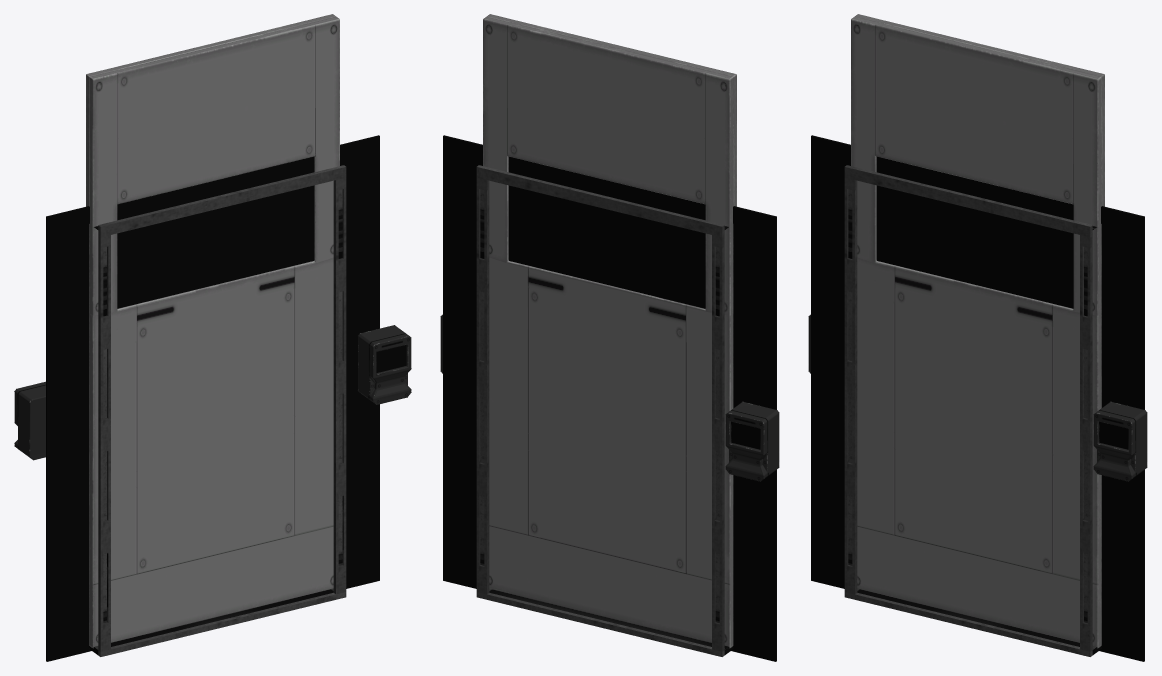
Rendered from EZ BreakableDoor.fbx.
3 renders of one model, left to right at view 1: azimuth 30°, elevation 25°; view 2: azimuth 150°, elevation 25°; view 3: azimuth 330°, elevation 25°, orthographic.
Parts seen in each view (by area): view 1: Front_Door, Frame, TouchScreenPanel (×2), Back_Door; view 2: Back_Door, Frame, TouchScreenPanel, Front_Door; view 3: Front_Door, Frame, TouchScreenPanel, Back_Door.
Part boxes in pixels (<box>): Front_Door: <box>89,16,339,648</box>; Frame: <box>46,135,379,661</box>; TouchScreenPanel (×2): <box>14,325,411,460</box>; Back_Door: <box>86,14,335,645</box>; Back_Door: <box>483,16,733,648</box>; Frame: <box>443,135,776,661</box>; TouchScreenPanel: <box>725,401,779,481</box>; Front_Door: <box>487,14,736,206</box>; Front_Door: <box>851,16,1101,648</box>; Frame: <box>811,135,1144,661</box>; TouchScreenPanel: <box>1093,401,1147,481</box>; Back_Door: <box>855,14,1104,645</box>.
Size of what is drawn, in the model's own units: 2.87 by 4.46 by 0.6311.
Materials: 5 (4 with a texture image).
